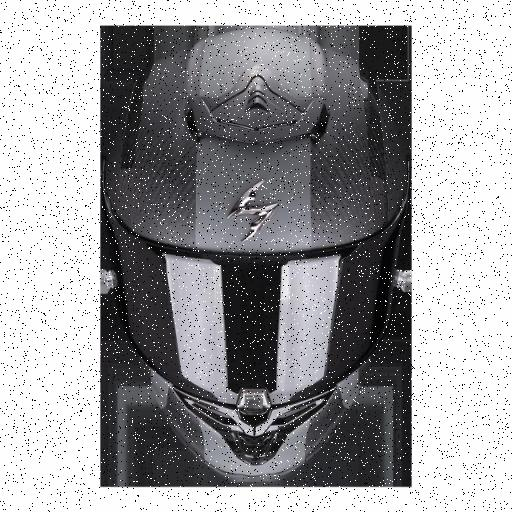Helmet: (104, 28, 407, 477)
